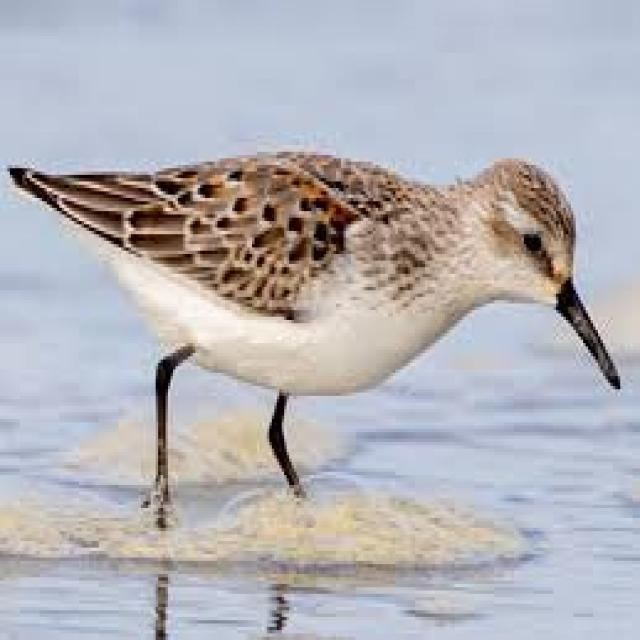Sandpiper: (17, 150, 634, 519)
